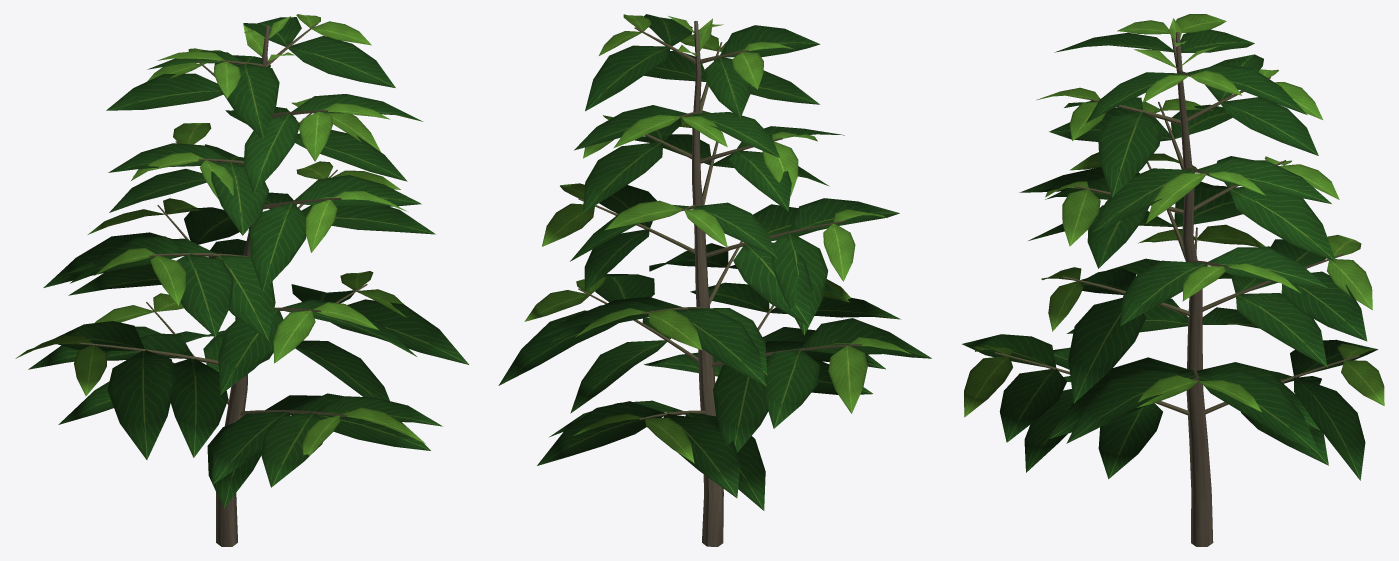
File: coffea-liberica-young-lod0.glb
The picture shows the model from 3 angles, left to right: view 1: azimuth 30°, elevation 25°; view 2: azimuth 150°, elevation 25°; view 3: azimuth 270°, elevation 25°; orthographic projection. The views are drawn at different scales.
Visible parts, largest first — view 1: coffee_leaves, coffee_bark; view 2: coffee_leaves, coffee_bark; view 3: coffee_leaves, coffee_bark.
Boxes of the visible parts, box(x1,y1,x2,y2) form: coffee_leaves: box(15, 14, 468, 508); coffee_bark: box(79, 23, 367, 546); coffee_leaves: box(498, 14, 931, 510); coffee_bark: box(578, 21, 861, 546); coffee_leaves: box(962, 14, 1384, 480); coffee_bark: box(995, 32, 1359, 546).
Size of the model in its own units: 0.8331 by 1.17 by 0.8535.
2 materials, 2 textured.
